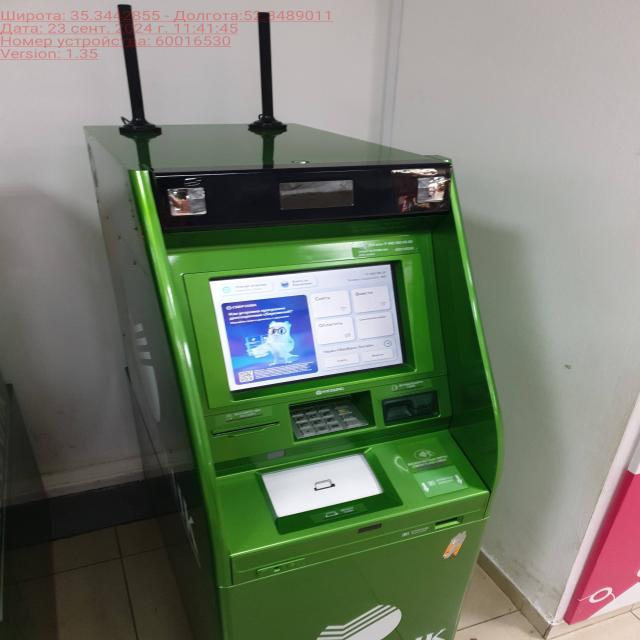bank: (80, 124, 499, 640)
